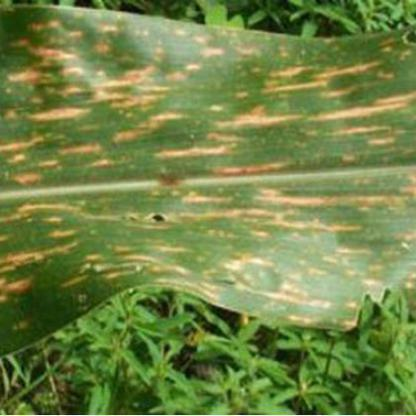corn gray leaf spot: (6, 2, 415, 364)
